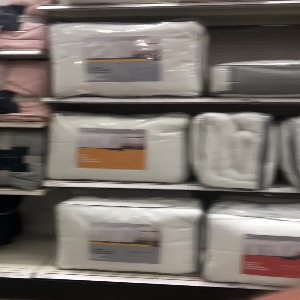void: (1, 201, 57, 274)
